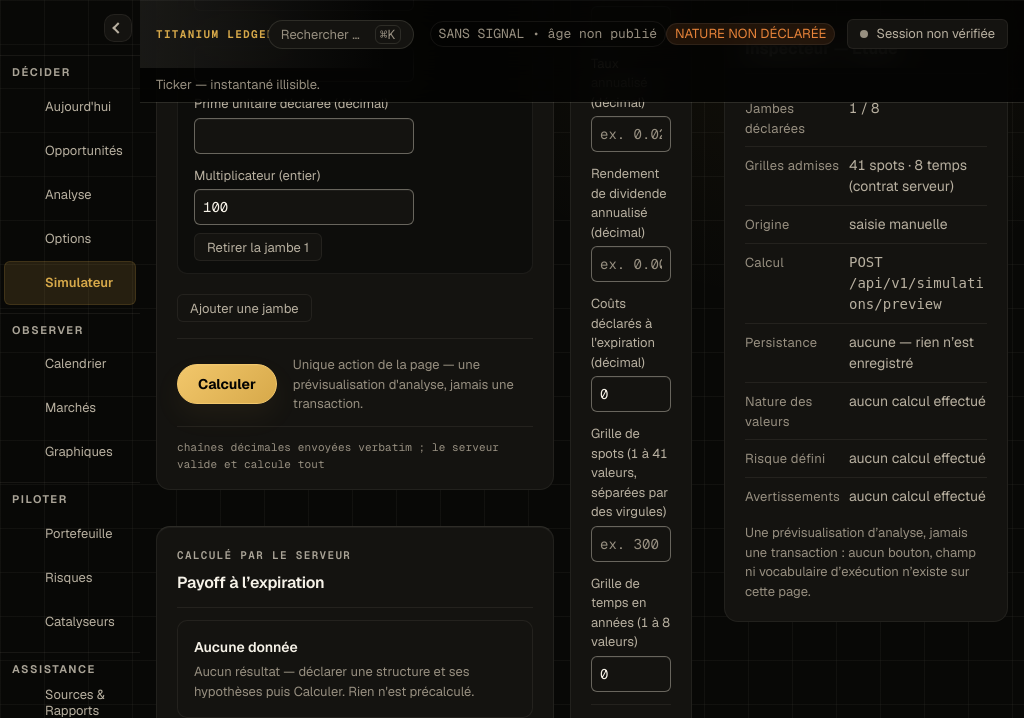
Test case: Page Simulateur — parcours › invalid_input : rien n’est envoyé, défauts listés
(page scrolled)
Click the button "Calculer" at {"x": 227, "y": 384}, box [177, 364, 277, 404]
(page scrolled)
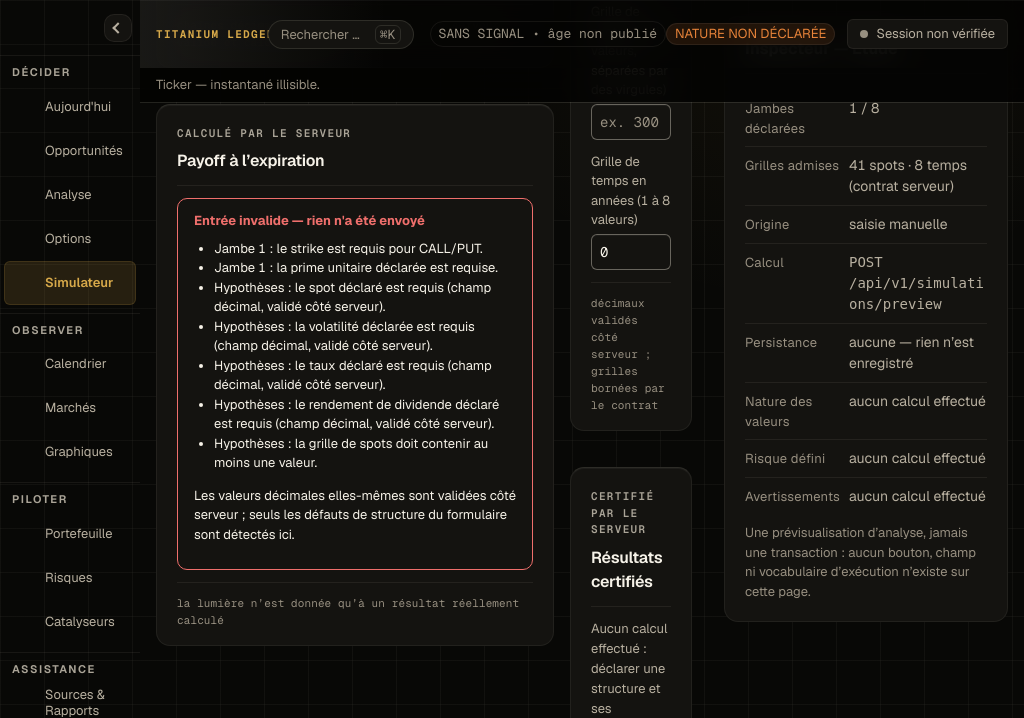
Check: the message with test id "sim-invalid-input" shows "rien n'a été envoyé", box [194, 212, 425, 229]
Check: the message with test id "sim-invalid-input" shows "strike est requis", box [214, 240, 483, 257]
